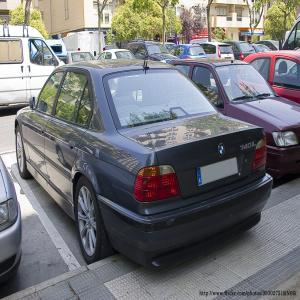Vehicle-registration-plate: (197, 157, 240, 188)
